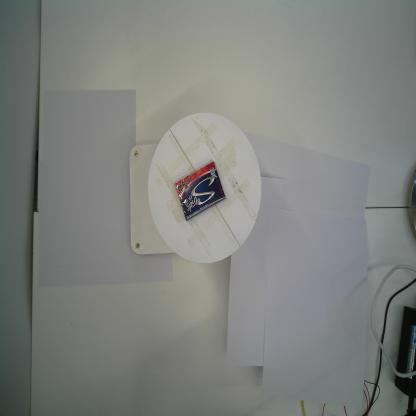Gum: (172, 158, 226, 222)
